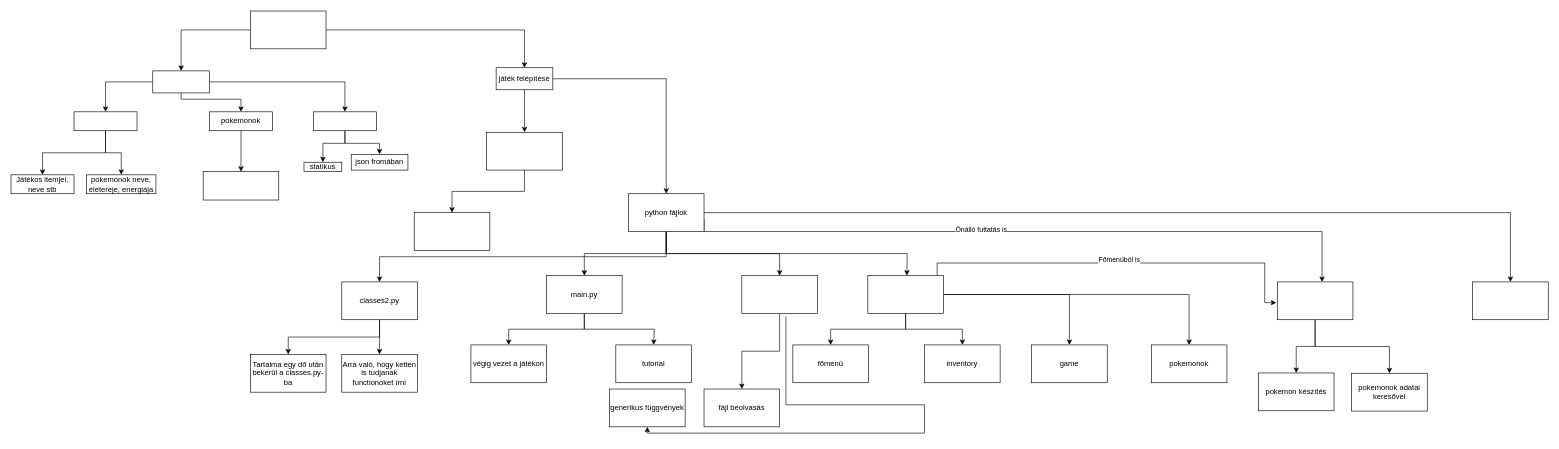
The diagram is 1559 pixels wide and 449 high, and some of its shapes have lost their labels. The shapes that lost their labels are listed below. From the top down, each one's centre as x and y in pixels, then its label:
pixel 288 29: Prokemon
pixel 180 81: Fájlok
pixel 105 121: Save data
pixel 344 121: típusok egymás ellen
pixel 524 151: Lineáris játékmenet
pixel 241 185: Lehet új pokemonokat csinálni
pixel 779 294: classes.py
pixel 905 294: menu.py
pixel 1315 300: pokedex.py
pixel 1510 300: story.py
